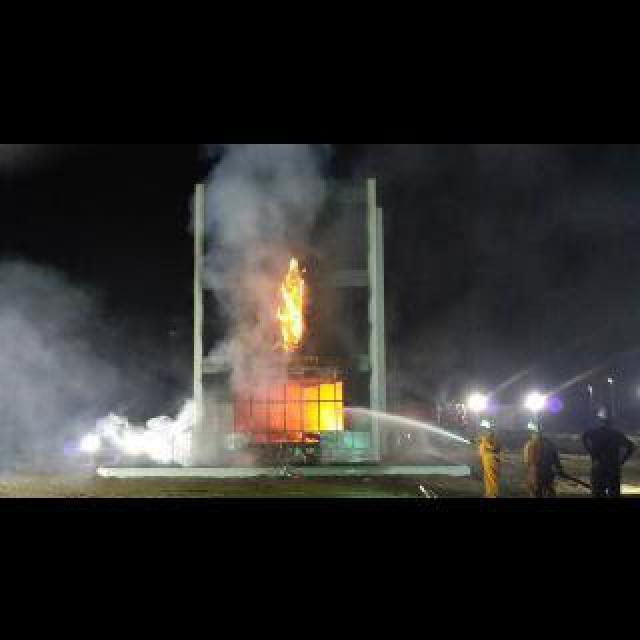Fire: (272, 242, 308, 350), (298, 376, 350, 438)
Smoke: (192, 142, 332, 242), (90, 396, 264, 470), (200, 244, 276, 390)
